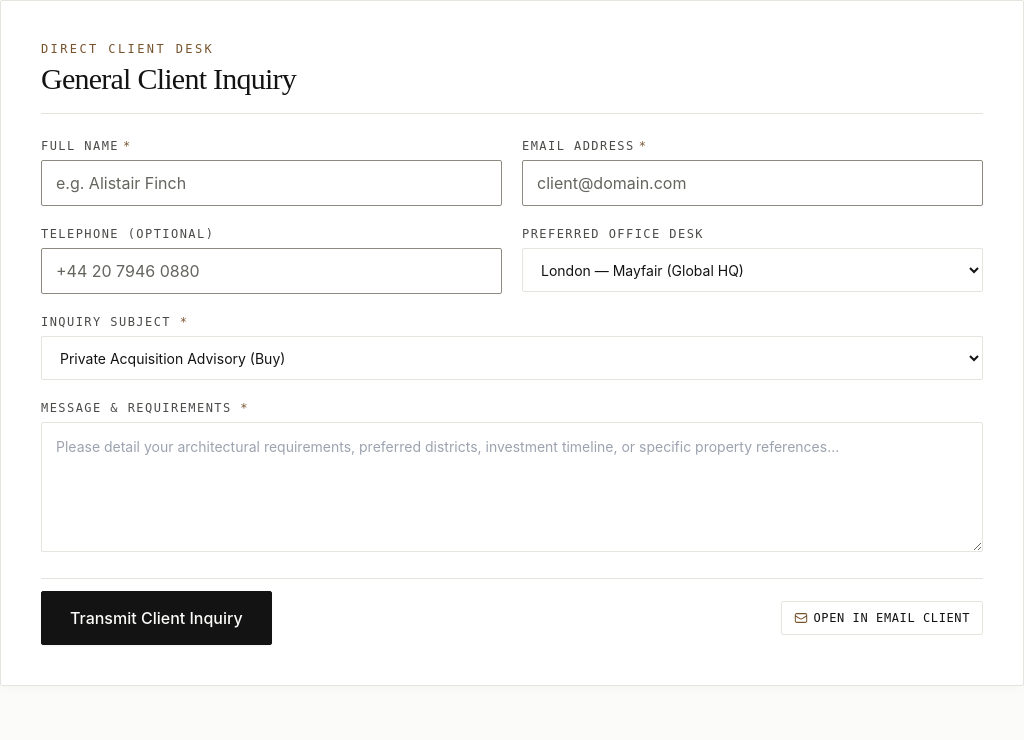
Test: Milestone 4: Brand Pages & Inquiry Components › ContactForm › renders client inquiry fields, validation, and mailto fallback to concierge@vaneandsterling.com
expect the field labelled "Full Name*" is shown: met, box [41,160,502,206]
expect the field labelled "Email Address*" is shown: met, box [522,160,983,206]
# Trigger validation on empty form
Click the button "Transmit Client Inquiry" at (156, 618), box [41,591,272,645]
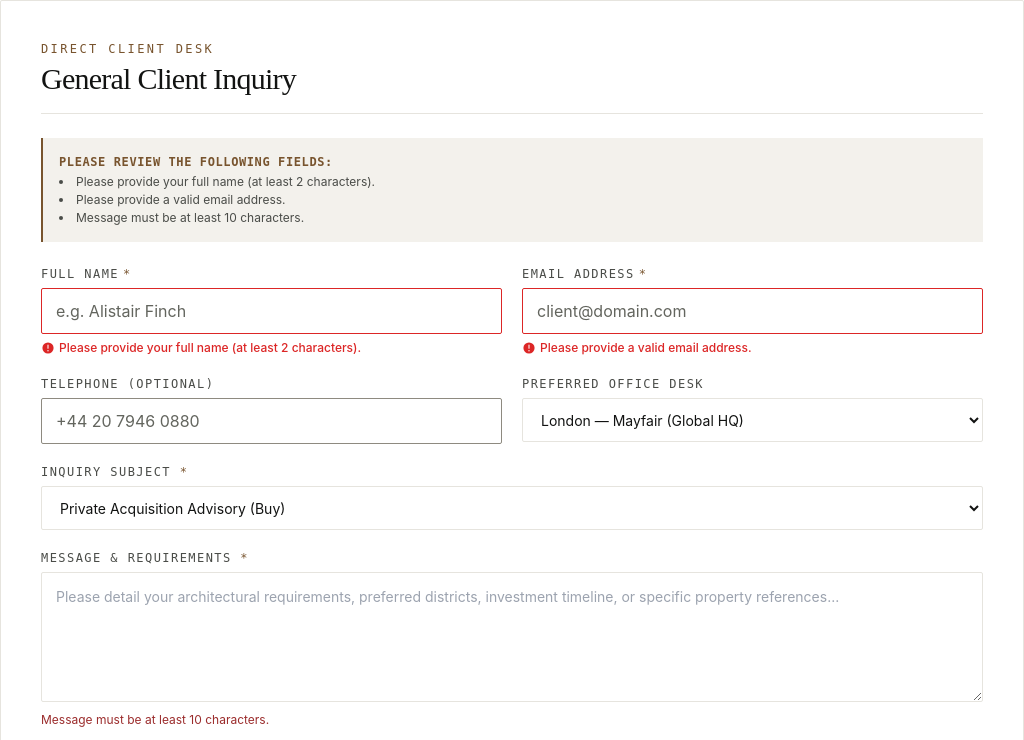
expect the message that starts with "Please review the following fields:" is shown: met, box [41,138,983,242]
expect the list item "Please provide your full name (at least 2 characters)." is shown: met, box [76,174,375,189]
# Enter valid fields
Type "Clara Oswald" into the field labelled "Full Name*" at (272, 311), box [41,288,502,334]
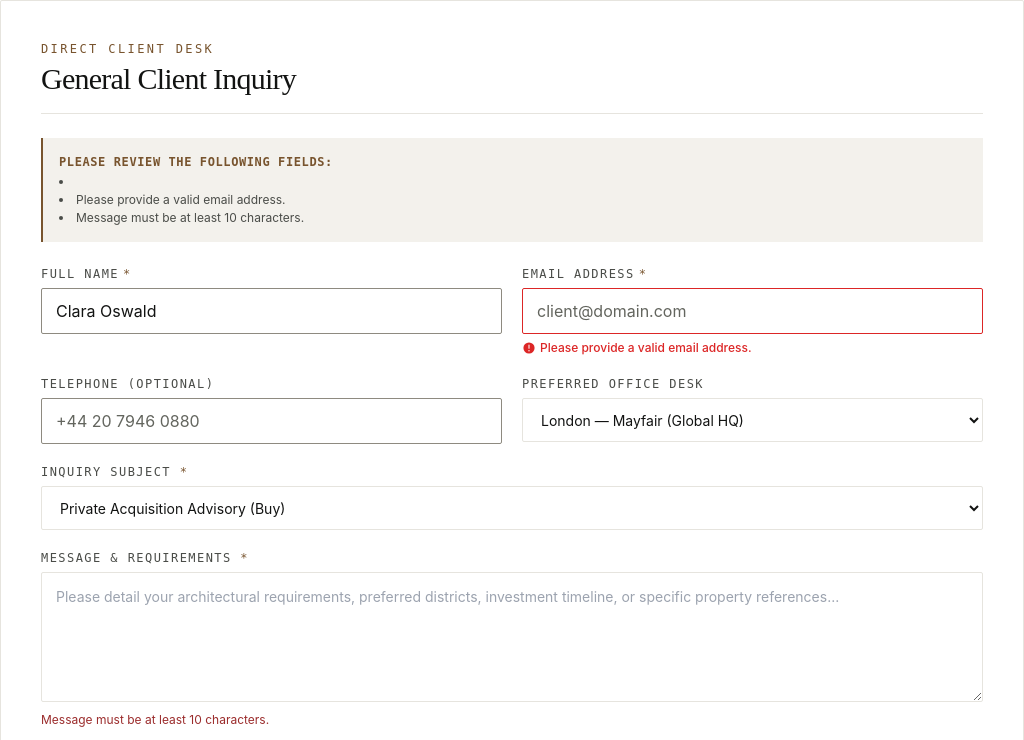
Type "clara@tardis.org" into the field labelled "Email Address*" at (752, 311), box [522,288,983,334]
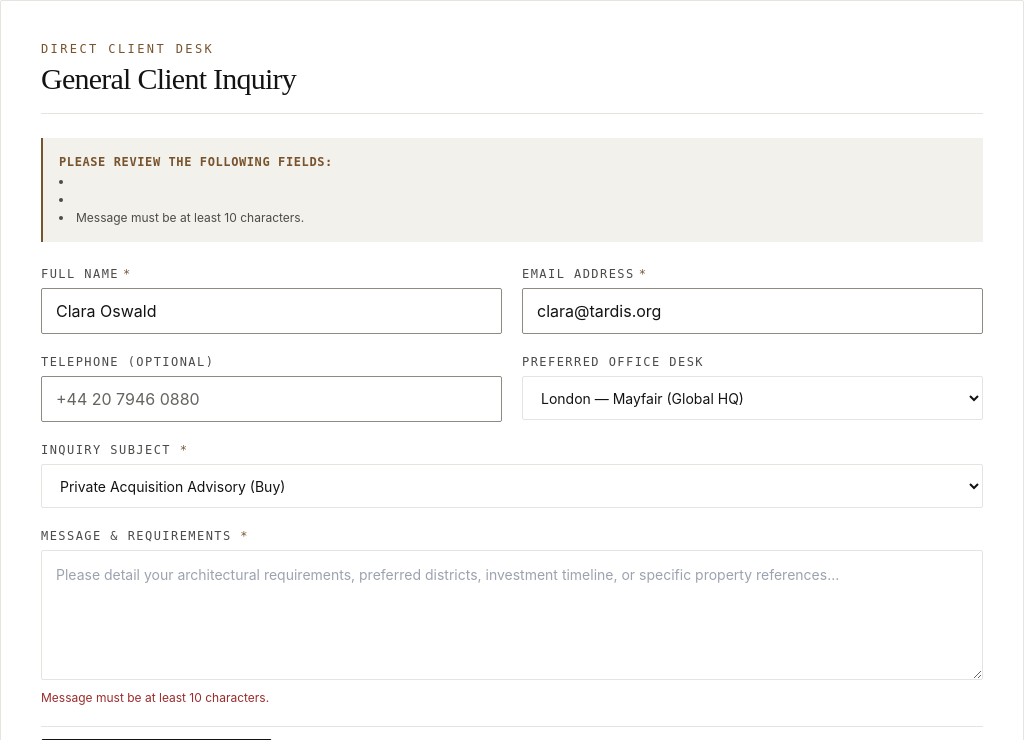
Replace the text in the text box labelled "Message & Requirements *" with "Looking for an off-market penthouse in Mayfair." at (512, 615), box [41,550,983,680]
(page scrolled)
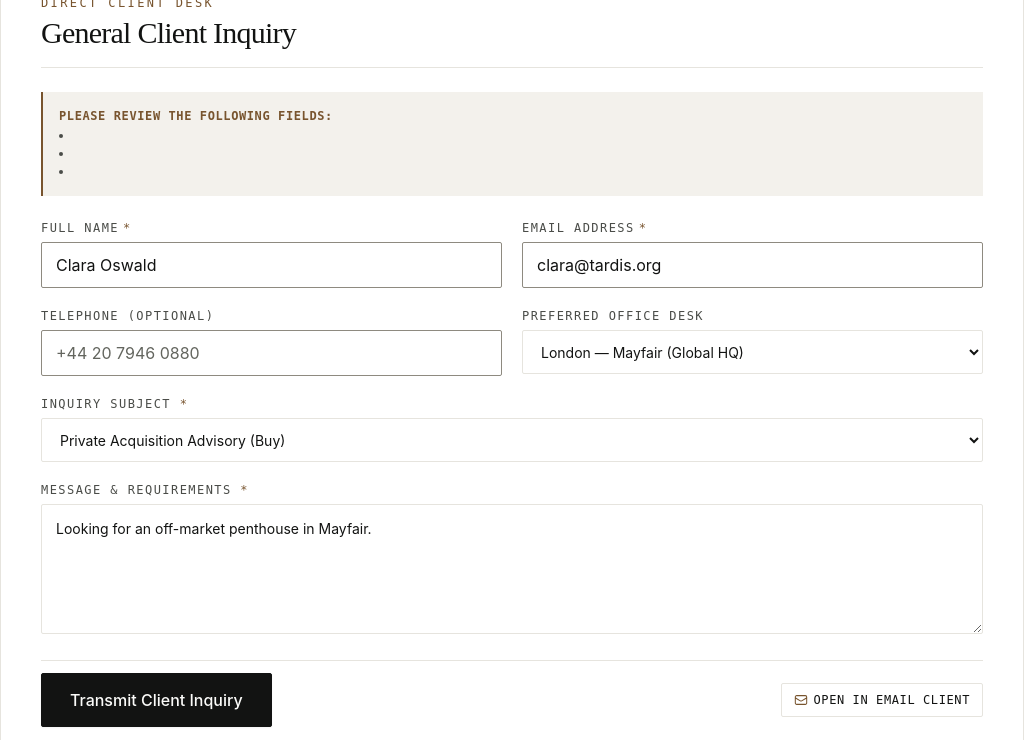
Click the button "Transmit Client Inquiry" at (156, 700), box [41,673,272,727]
(page scrolled)
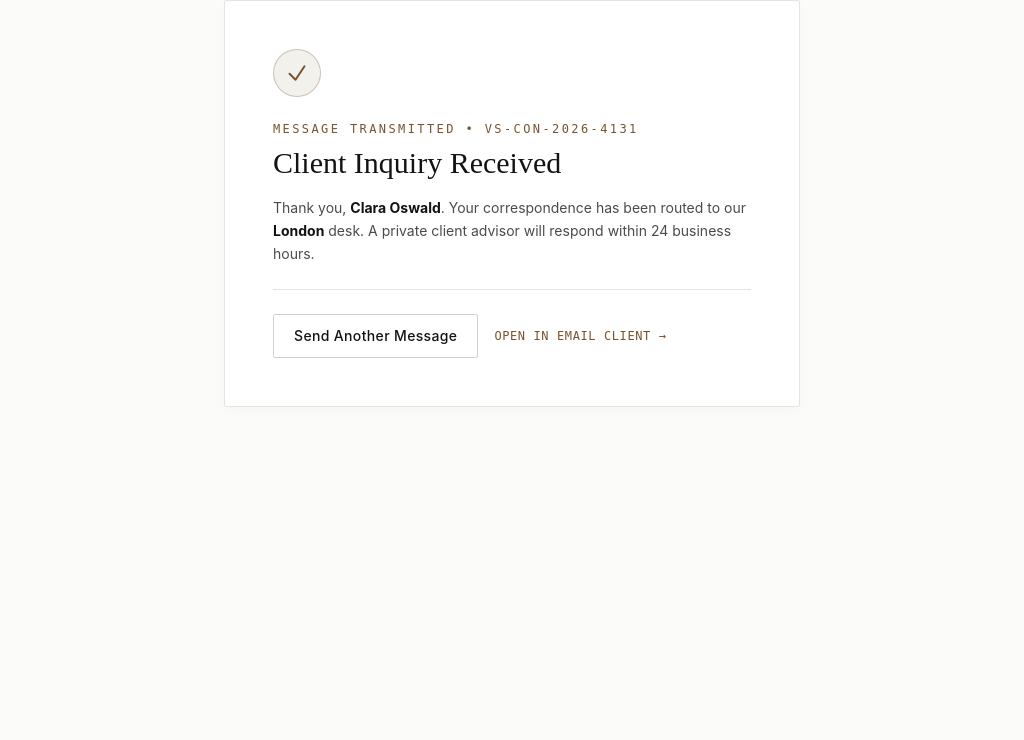
expect the message is shown: met, box [224,0,800,407]
expect the heading "Client Inquiry Received" is shown: met, box [273,146,561,179]
expect the text "Clara Oswald" is shown: met, box [350,199,441,216]
